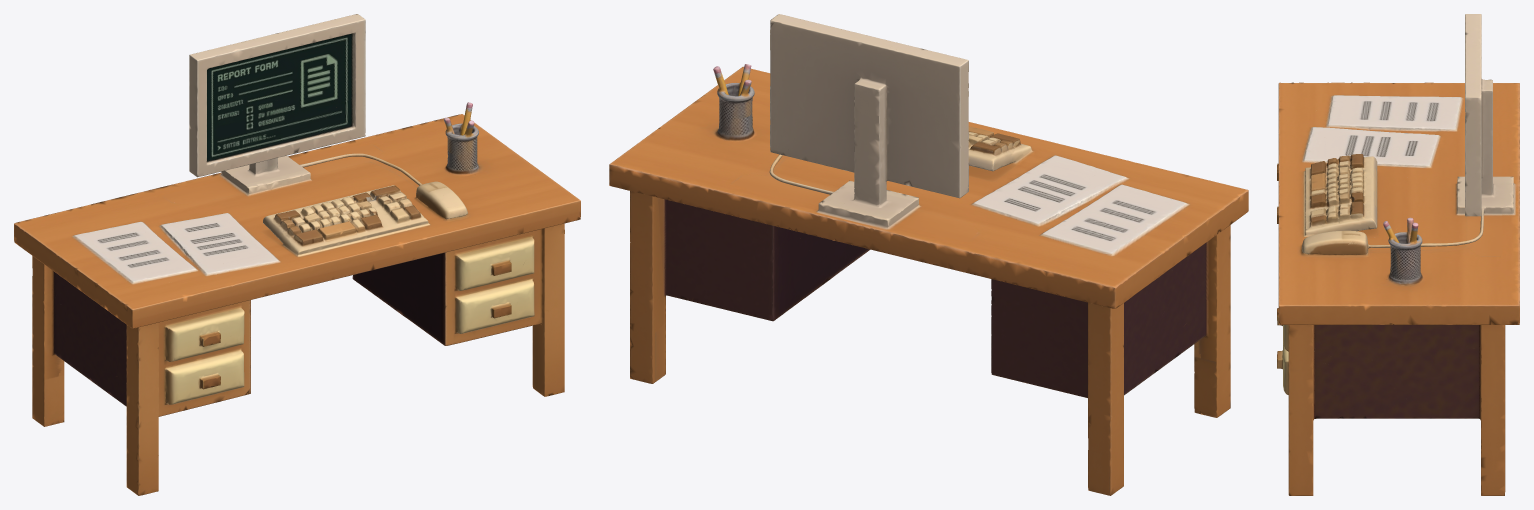
The model's file is Estacion_reportes.glb.
The picture shows the model from 3 angles, left to right: view 1: azimuth 30°, elevation 25°; view 2: azimuth 150°, elevation 25°; view 3: azimuth 270°, elevation 25°; orthographic projection. The views are drawn at different scales.
Bounding box in the file's own units: 1.9 × 1.36 × 0.8748.
1 material, 1 textured.
